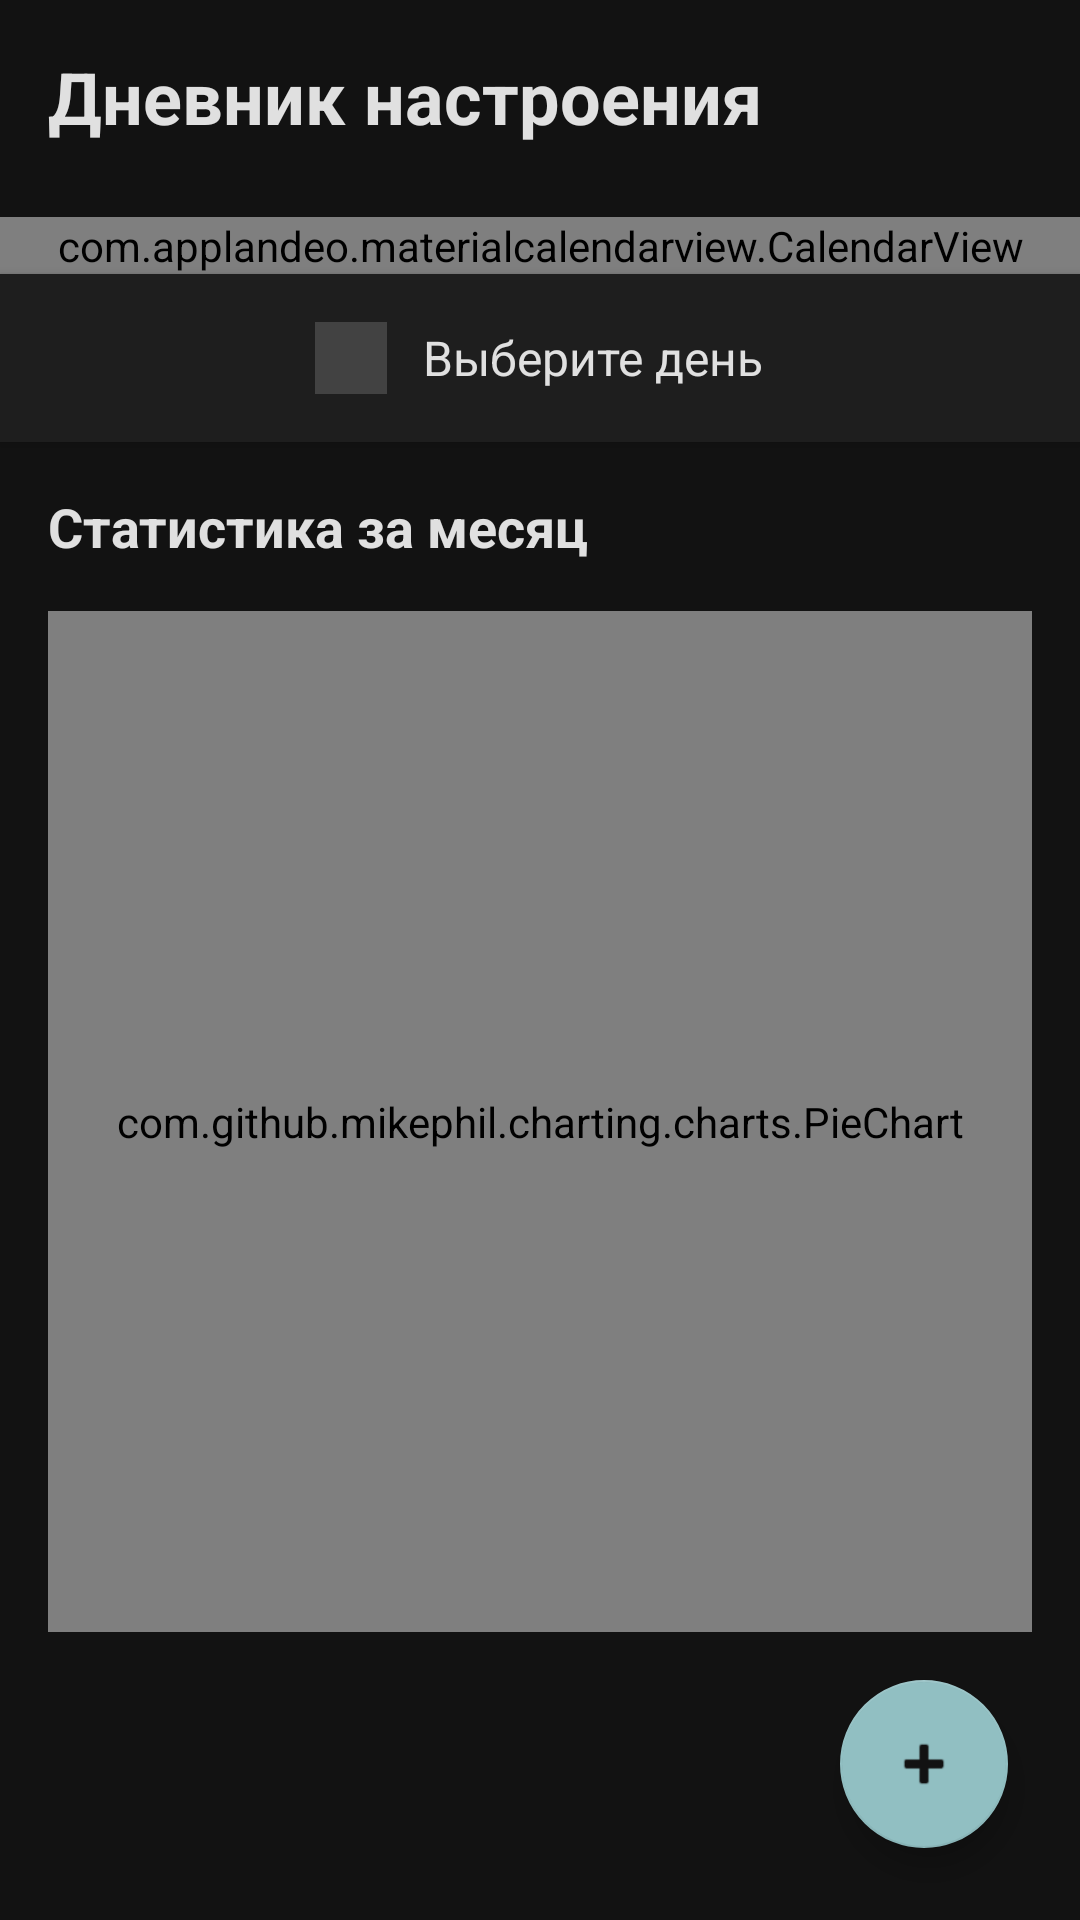

Screen size 1080x1920. Icon name, then its center in pixels as (x,y):
Добавить запись: (924,1764)
